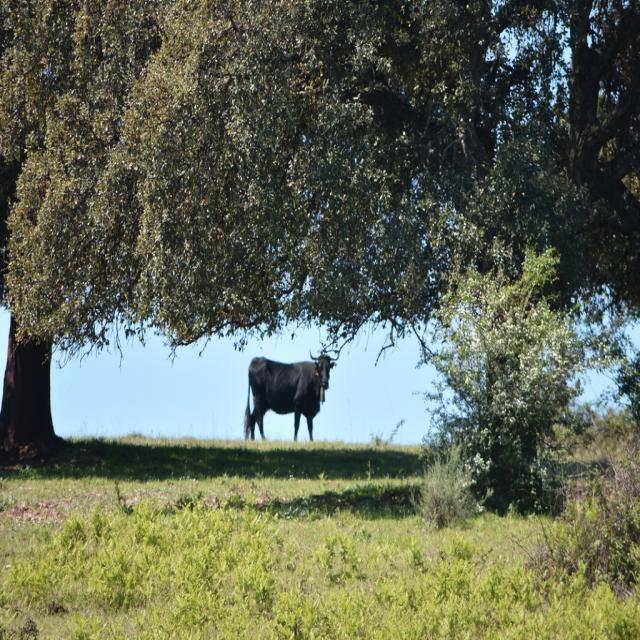cow: (245, 355, 334, 441)
